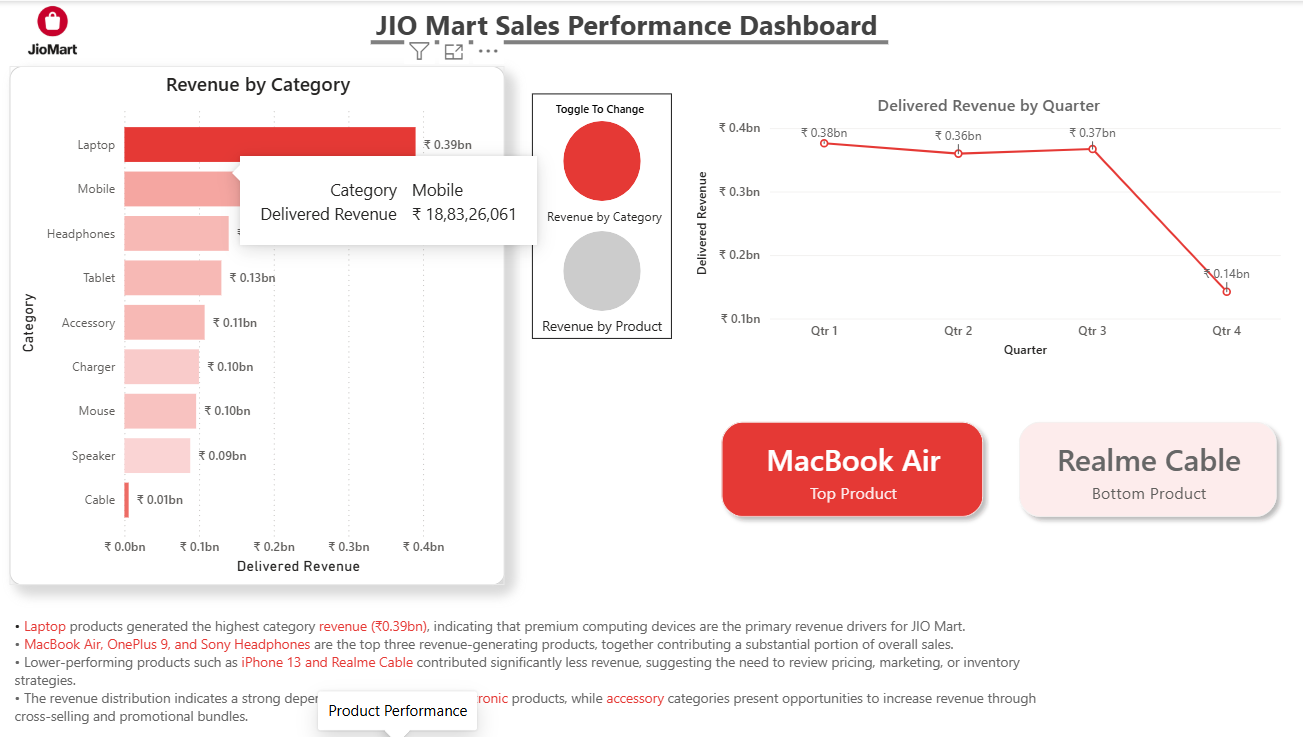

Layout of this report page (visuals, bound fields, positions):
{"tool":"powerbi","page":{"name":"Product Performance","canvas":[1280,720],"ordinal":1},"visuals":[{"type":"image","box":[0,0,108.8,59.6],"z":0},{"type":"shape","box":[365.6,4.9,506.3,70.9],"z":2000},{"type":"textbox","box":[365.6,0,813.2,53.8],"z":3000},{"type":"barChart","title":"Revenue by  Category","fields":{"Category":["Products.Category"],"Y":["Table.Revenue"]},"box":[11.7,63.5,484.6,508],"z":4000},{"type":"textbox","box":[12.2,596.7,1041.9,123.5],"z":5000},{"type":"textbox","box":[523.4,90.5,137,239.7],"z":6000},{"type":"shape","box":[553.9,117.4,75.8,78.3],"z":7000},{"type":"shape","box":[553.9,225,75.8,78.3],"z":8000},{"type":"textbox","box":[541.7,90.5,138.2,30.6],"z":9000},{"type":"textbox","box":[533.2,195.7,127.2,29.3],"z":10000},{"type":"textbox","box":[528.3,303.3,137,29.3],"z":11000},{"type":"lineChart","fields":{"Category":["Orders.Date and time of purchase.Variation.Date Hierarchy.Year","Orders.Date and time of purchase.Variation.Date Hierarchy.Quarter","Orders.Date and time of purchase.Variation.Date Hierarchy.Month","Orders.Date and time of purchase.Variation.Date Hierarchy.Day"],"Y":["Table.Revenue"]},"box":[679.9,90.5,580.8,262.9],"z":12000},{"type":"cardVisual","fields":{"Data":["Table.Top Product"]},"box":[680.3,382.3,314.9,151.6],"z":13000},{"type":"cardVisual","fields":{"Data":["Table.Bottom Product"]},"box":[970.6,382.3,310,151.6],"z":14000}]}

Visuals, with their boxes in screenshot pixels (x1, y1, x2, y2), scaled from the page's 1280x720 canvas onto the 1303x737 screenshot:
image: crop(0, 0, 111, 61)
shape: crop(372, 5, 888, 78)
textbox: crop(372, 0, 1200, 55)
"Revenue by  Category" barChart: crop(12, 65, 505, 585)
textbox: crop(12, 611, 1073, 736)
textbox: crop(533, 93, 672, 338)
shape: crop(564, 120, 641, 200)
shape: crop(564, 230, 641, 310)
textbox: crop(551, 93, 692, 124)
textbox: crop(543, 200, 672, 230)
textbox: crop(538, 310, 677, 340)
lineChart - Orders.Date and time of purchase.Variation.Date Hierarchy.Year x Orders.Date and time of purchase.Variation.Date Hierarchy.Quarter: crop(692, 93, 1283, 362)
cardVisual - Table.Top Product: crop(693, 391, 1013, 547)
cardVisual - Table.Bottom Product: crop(988, 391, 1302, 547)
